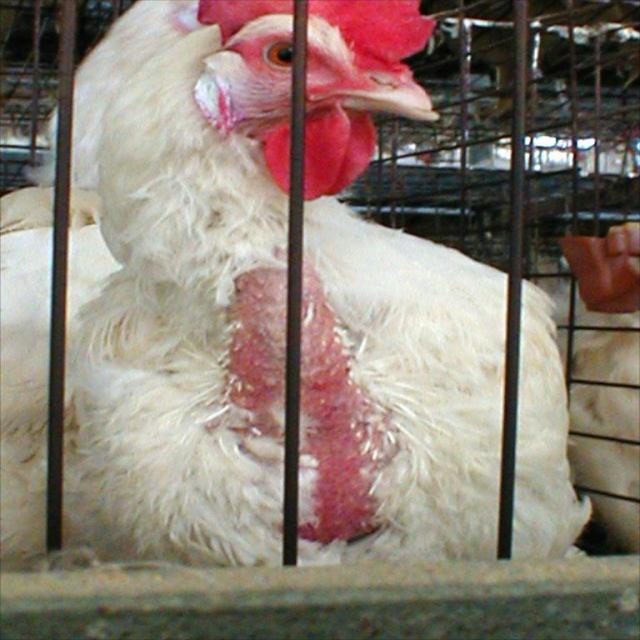Chicken: (35, 0, 576, 543)
